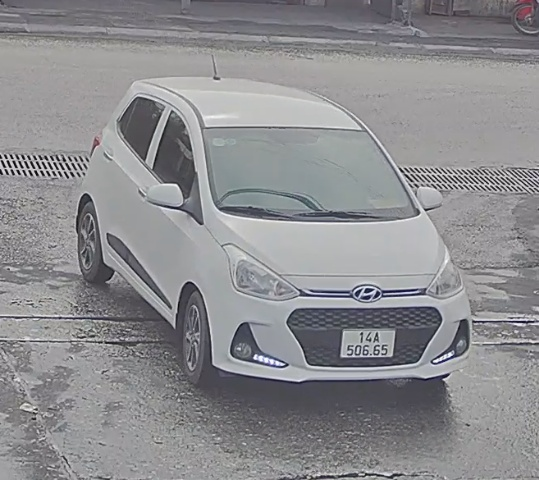vehicle plate: (332, 323, 401, 365)
